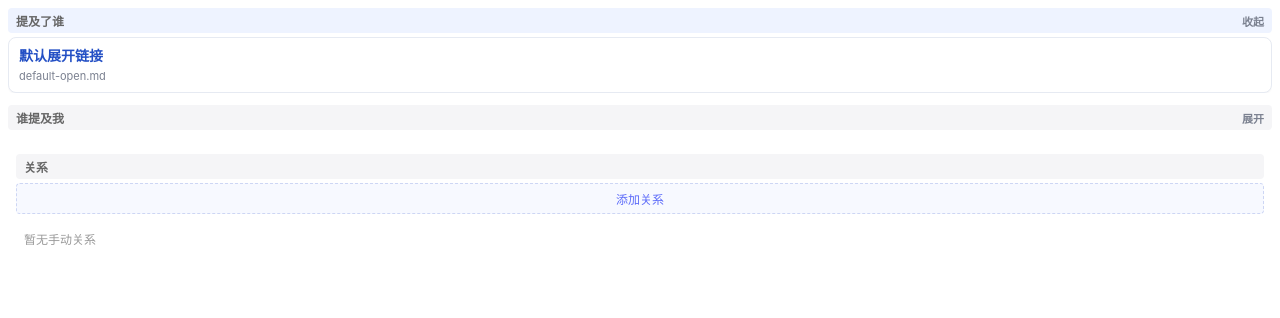
BacklinksPanel › keeps outgoing expanded and incoming collapsed by default
expect the text "默认展开链接" is shown: met, box [19,47,103,64]
expect the text "默认收起链接" is not shown: met
Step 1. Click the button "谁提及我 展开" → (40, 119), box [8,105,1272,130]
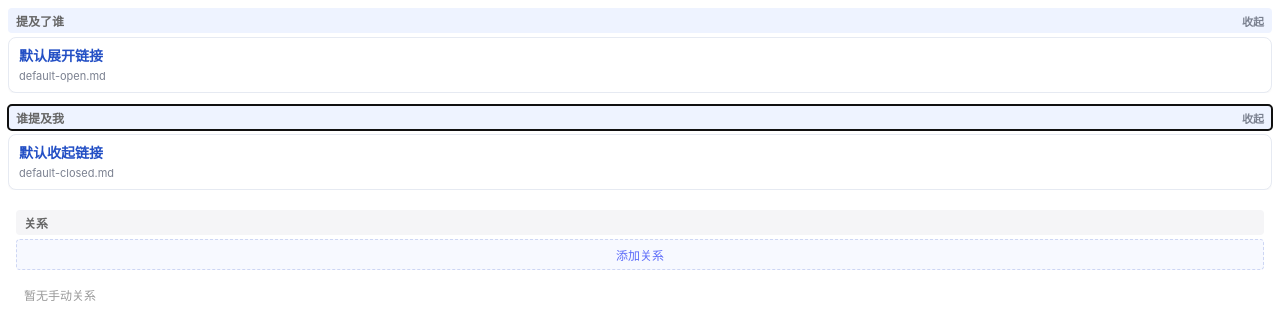
expect the button "谁提及我 收起" is expanded: met, box [8,105,1272,130]
expect the text "默认收起链接" is shown: met, box [19,144,103,161]
